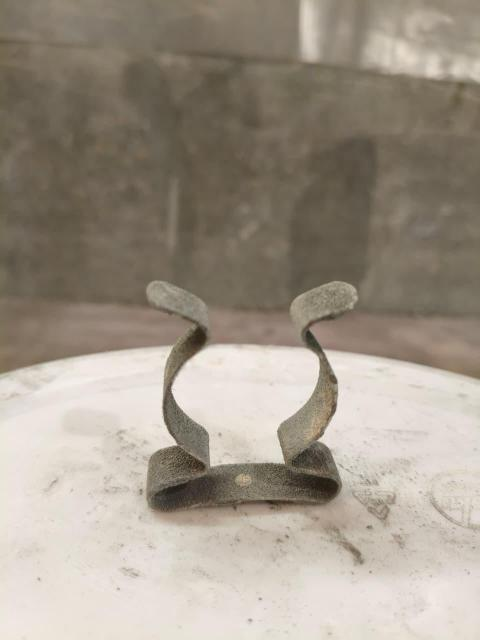Metal: (137, 270, 355, 515)
